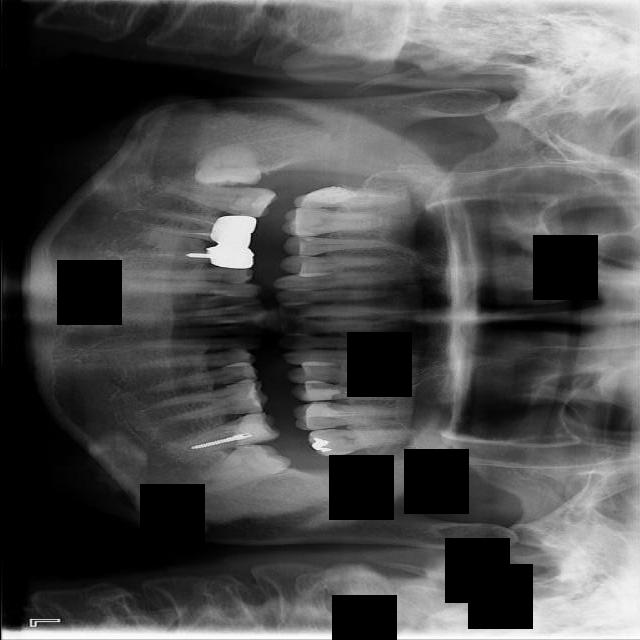52: (204, 213, 256, 270), (227, 405, 282, 453), (217, 375, 271, 423), (222, 183, 279, 221), (291, 399, 344, 433), (279, 206, 330, 239), (292, 183, 349, 211), (307, 430, 361, 456), (289, 378, 340, 404), (283, 235, 325, 258)
73: (167, 420, 244, 469), (152, 209, 220, 243), (337, 404, 417, 432), (340, 186, 415, 211), (336, 386, 404, 406), (133, 250, 208, 265), (86, 582, 92, 586)
BioHorizons Implant: (307, 425, 423, 458)
Biomet 3i Implant: (189, 433, 293, 500)
Blue Sky Bio Implant: (164, 408, 281, 459)
Caries: (291, 181, 402, 210)
Implant: (160, 180, 278, 220)
Keystone Dental Implant: (192, 143, 261, 188)
